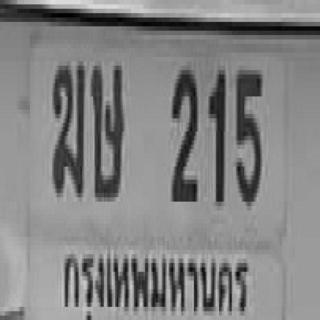A06: (51, 59, 83, 191)
A39: (90, 61, 123, 197)
N01: (208, 66, 224, 202)
N02: (169, 66, 196, 197)
N05: (235, 66, 260, 202)
